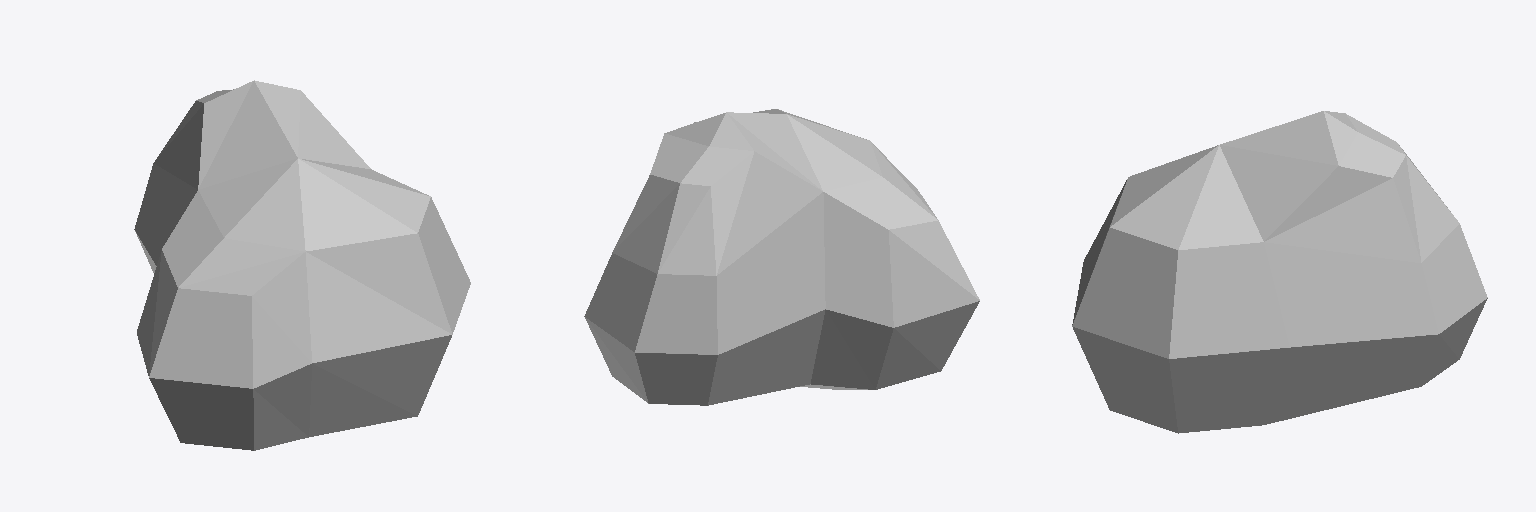
The model's file is Stone1.obj.
The picture shows the model from 3 angles: view 1: azimuth 30°, elevation 25°; view 2: azimuth 150°, elevation 25°; view 3: azimuth 270°, elevation 25°; orthographic projection.
Visible parts, largest first — view 1: Sphere; view 2: Sphere; view 3: Sphere.
Boxes of the visible parts, x1,y1,x2,y2 form: Sphere: [134, 80, 470, 450]; Sphere: [584, 109, 979, 405]; Sphere: [1072, 111, 1487, 433].
Size of the model in its own units: 2.58 by 2.39 by 2.91.